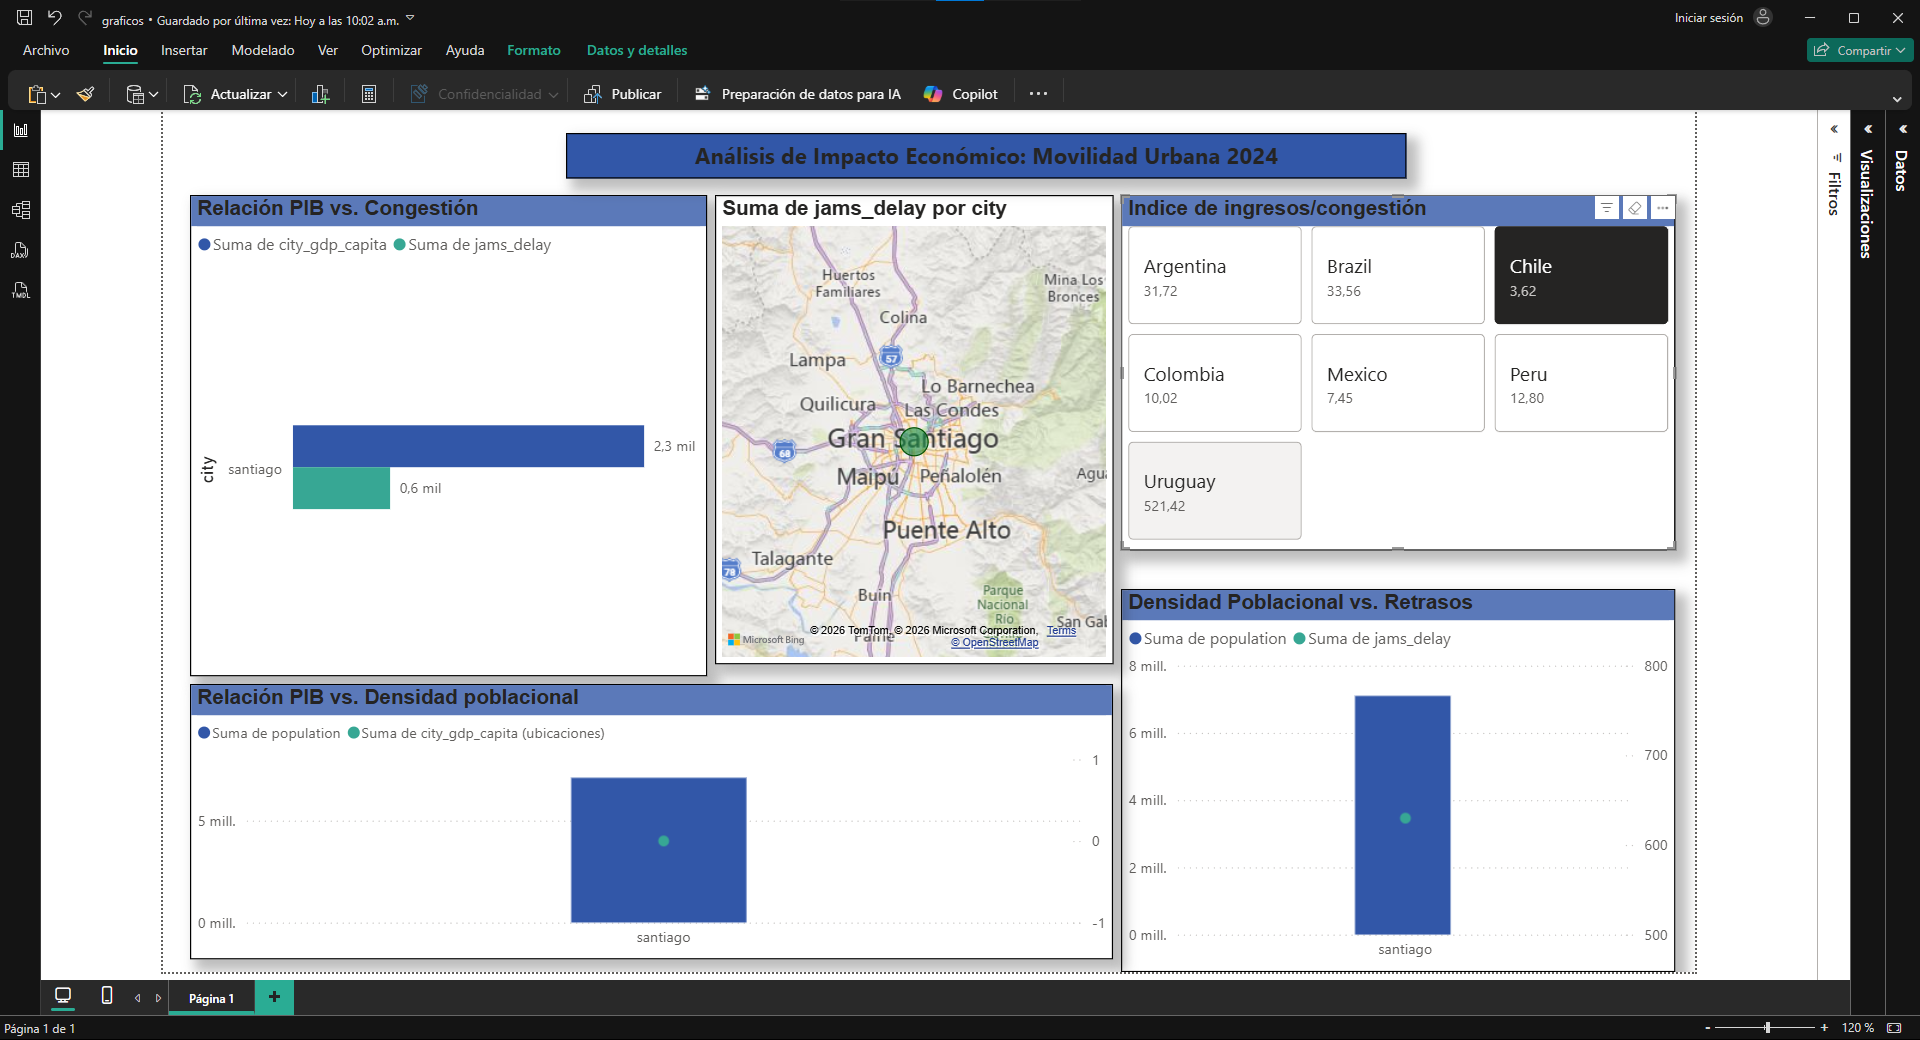

Layout of this report page (visuals, bound fields, positions):
{"tool":"powerbi","page":{"name":"Página 1","canvas":[1280,720],"ordinal":0},"visuals":[{"type":"clusteredBarChart","title":"Relación PIB vs. Congestión","fields":{"Category":["movilidad_economica_final.city"],"Y":["Sum(movilidad_economica_final.city_gdp_capita)","Sum(movilidad_economica_final.jams_delay)"]},"box":[22.4,70.7,432.1,401.9],"z":0},{"type":"lineStackedColumnComboChart","title":"Densidad Poblacional vs. Retrasos","fields":{"Category":["movilidad_economica_final.city"],"Y":["Sum(movilidad_economica_final.population)"],"Y2":["Sum(movilidad_economica_final.jams_delay)"]},"box":[800.4,400.2,463.2,320],"z":1000},{"type":"lineStackedColumnComboChart","title":"Relación PIB vs. Densidad poblacional","fields":{"Category":["movilidad_economica_final.city"],"Y2":["Sum(movilidad_economica_final.city_gdp_capita (ubicaciones))"],"Y":["Sum(movilidad_economica_final.population)"]},"box":[22.8,479.8,771.3,230.3],"z":2000},{"type":"advancedSlicerVisual","title":"Indice de ingresos/congestión","fields":{"Values":["movilidad_economica_final.country"],"Label":["movilidad_economica_final.indice_eficiencia"]},"box":[800.2,70.9,463.1,296.8],"z":3000},{"type":"map","fields":{"Category":["movilidad_economica_final.city"],"Size":["Sum(movilidad_economica_final.jams_delay)"]},"box":[461.4,70.9,332.7,392.2],"z":4000},{"type":"textbox","title":"Análisis de Impacto Económico: Movilidad Urbana 2024","box":[336.6,19.2,702.5,37.6],"z":5000}]}

Visuals, with their boxes on the page's 1280x720 design canvas (x1, y1, x2, y2). These are canvas units, not pixel positions in the 1920x1040 screenshot, which may show the page scaled, cropped or inside an application window:
"Relación PIB vs. Congestión" clusteredBarChart: select_region(22, 71, 454, 473)
"Densidad Poblacional vs. Retrasos" lineStackedColumnComboChart: select_region(800, 400, 1264, 720)
"Relación PIB vs. Densidad poblacional" lineStackedColumnComboChart: select_region(23, 480, 794, 710)
"Indice de ingresos/congestión" advancedSlicerVisual: select_region(800, 71, 1263, 368)
map - movilidad_economica_final.city x Sum(movilidad_economica_final.jams_delay): select_region(461, 71, 794, 463)
"Análisis de Impacto Económico: Movilidad Urbana 2024" textbox: select_region(337, 19, 1039, 57)
